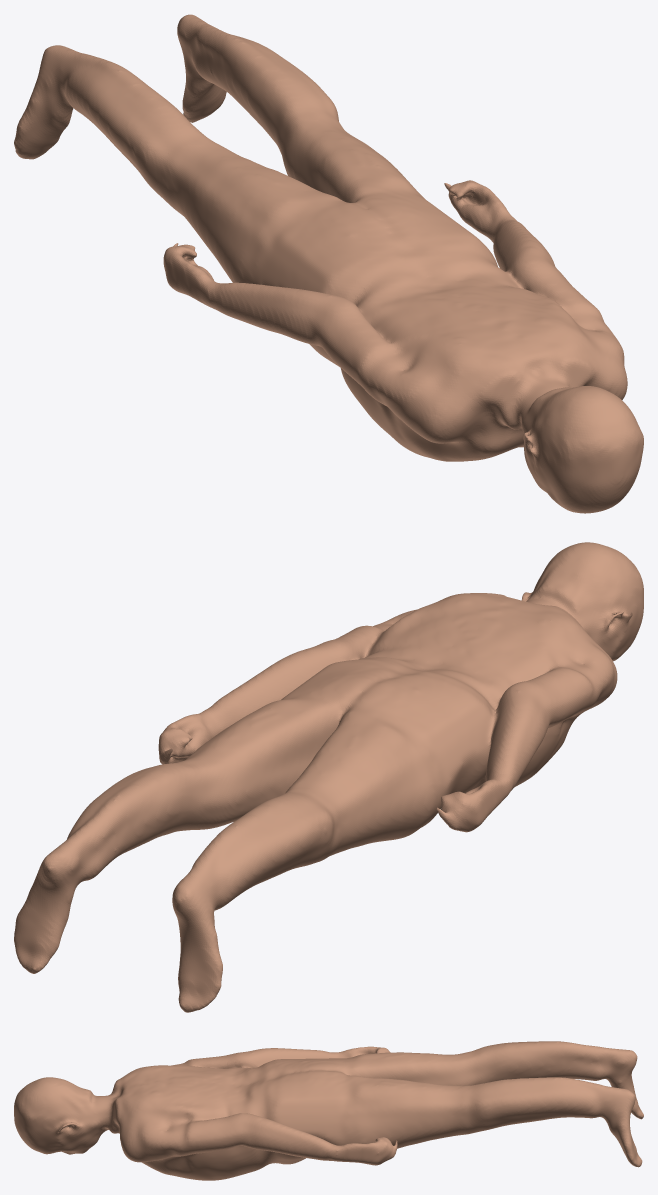
The model's file is pediatric_skin.glb.
3 views of the same model, one above another, from view 1: azimuth 30°, elevation 25°; view 2: azimuth 150°, elevation 25°; view 3: azimuth 270°, elevation 25° (orthographic). The views are drawn at different scales.
Parts seen in each view (by area): view 1: world; view 2: world; view 3: world.
Part boxes in pixels (x1,y1,x2,y2): world: (14, 14, 643, 513); world: (14, 542, 643, 1012); world: (14, 1041, 643, 1180).
Size of the model in its own units: 507 by 268 by 1402.
